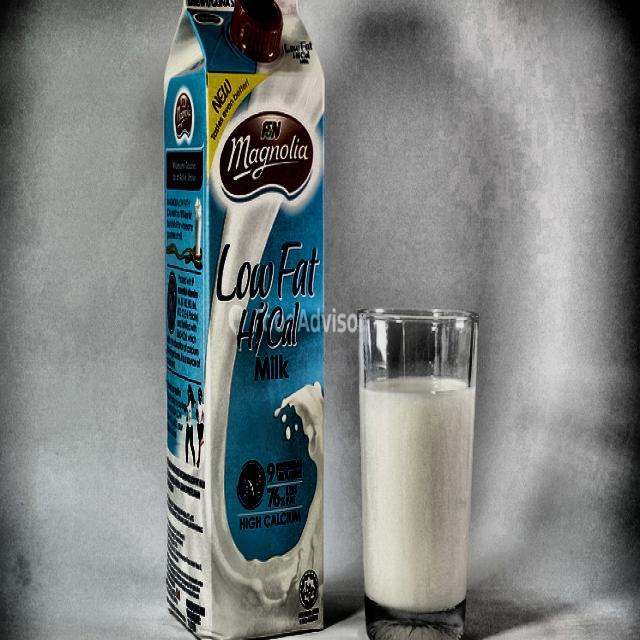cardboard: (162, 0, 327, 640)
